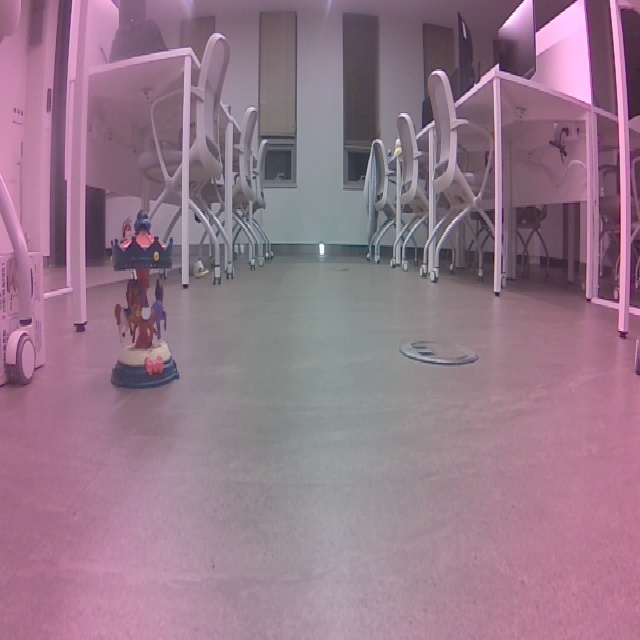목적지: (97, 198, 192, 401)
